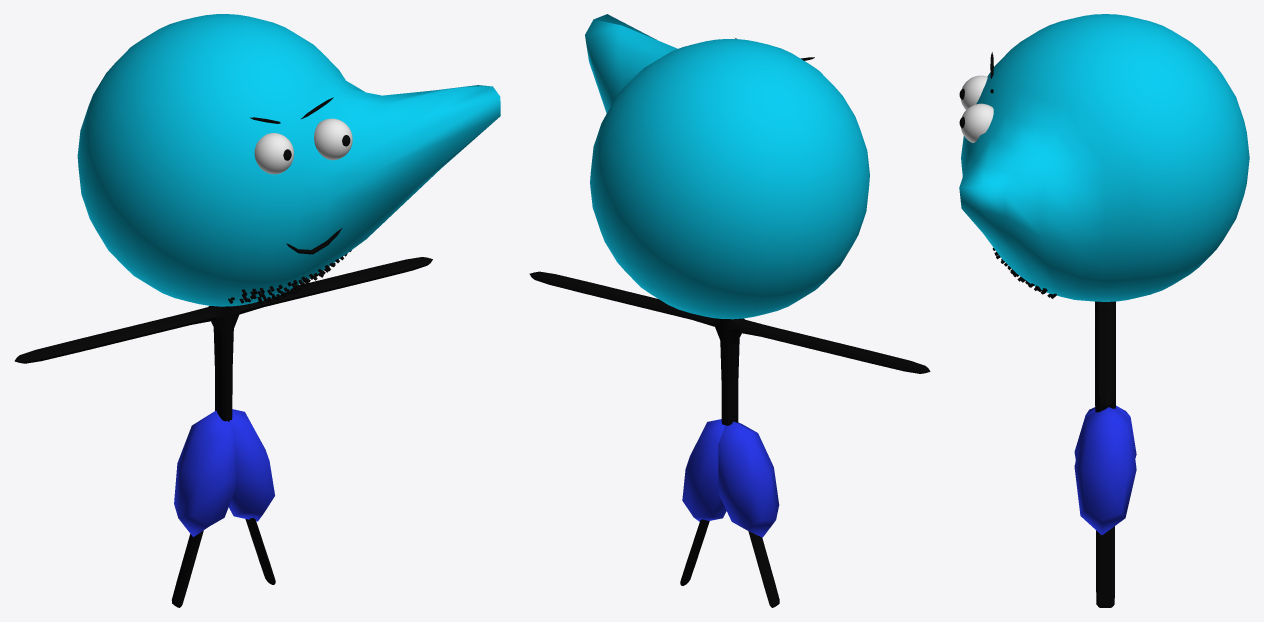
Rendered from majnu.fbx.
3 renders of one model, left to right at view 1: azimuth 30°, elevation 25°; view 2: azimuth 150°, elevation 25°; view 3: azimuth 270°, elevation 25°, orthographic. The views are drawn at different scales.
Visible parts, largest first — view 1: Sphere, Cube.001, Cube, Sphere.001; view 2: Sphere, Cube.001, Cube; view 3: Sphere, Cube.001, Cube, Sphere.001.
Boxes of the visible parts, box(x1,y1,x2,y2) form: Sphere: box(77, 14, 500, 306); Cube.001: box(174, 409, 274, 537); Cube: box(14, 257, 432, 607); Sphere.001: box(254, 118, 352, 174); Sphere: box(585, 14, 869, 319); Cube.001: box(682, 419, 779, 537); Cube: box(529, 271, 930, 607); Sphere: box(959, 14, 1249, 301); Cube.001: box(1074, 405, 1136, 535); Cube: box(1095, 301, 1115, 607); Sphere.001: box(960, 75, 993, 142).
Bounding box in the file's own units: 540 × 699 × 330.
